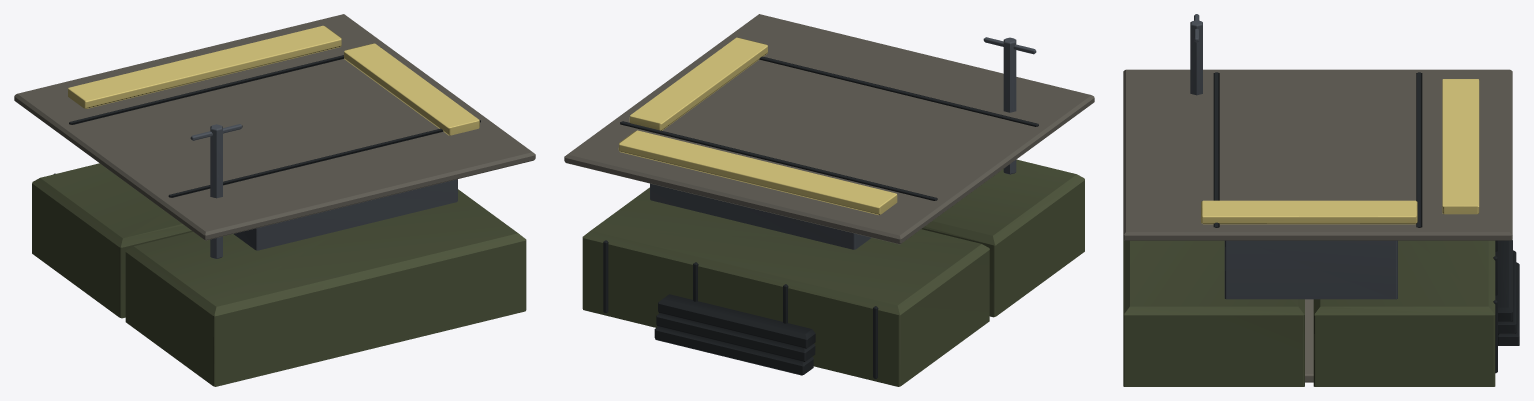
The model's file is forward_post.glb.
3 views of the same model, side by side, from view 1: azimuth 30°, elevation 25°; view 2: azimuth 150°, elevation 25°; view 3: azimuth 270°, elevation 25° (orthographic).
Parts seen in each view (by area): view 1: Body; view 2: Body; view 3: Body.
Part boxes in pixels (<box>): Body: <box>14,14,535,386</box>; Body: <box>564,14,1094,386</box>; Body: <box>1123,14,1519,386</box>.
Bounding box in the file's own units: 5.85 × 3.8 × 5.95.
